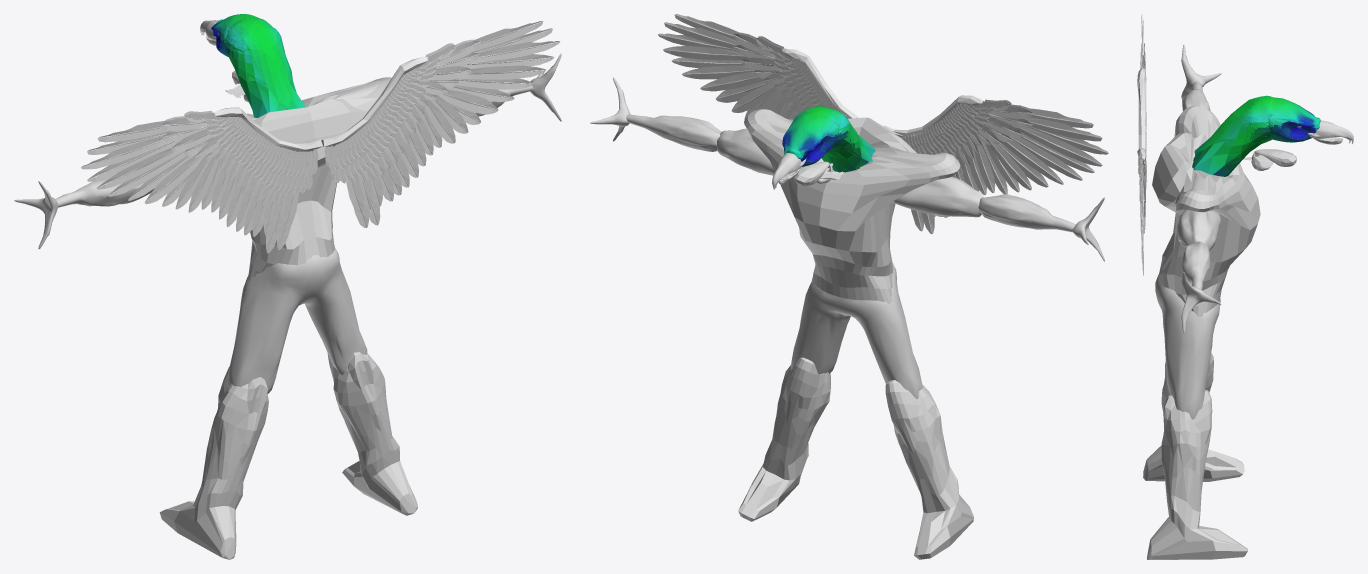
Rendered from general_potat.fbx.
The picture shows the model from 3 angles, left to right: view 1: azimuth 30°, elevation 25°; view 2: azimuth 150°, elevation 25°; view 3: azimuth 270°, elevation 25°; orthographic projection. The views are drawn at different scales.
Visible parts, largest first — view 1: Cylinder.000, Cylinder.003, Cube.004, Sphere.004, Sphere.011, Sphere.012, Sphere.005, Sphere.008, Cube.002, Sphere.010; view 2: Sphere.004, Cylinder.003, Cylinder.000, Sphere.011, Cube.004, Sphere.012, Sphere.005, Cube.003, Cube.002, Cube.001, Sphere.008, Cube; view 3: Sphere.004, Sphere.012, Cube.004, Sphere.005, Sphere.008, Sphere.011, Cube, Cube.001, Cylinder.003, Cylinder.000, Sphere.009, Sphere.010 (+3 smaller).
Boxes of the visible parts, box(x1,y1,x2,y2) form: Cylinder.000: box(321, 21, 560, 227); Cylinder.003: box(81, 107, 322, 253); Cube.004: box(227, 248, 367, 393); Sphere.004: box(247, 77, 391, 280); Sphere.011: box(159, 366, 268, 559); Sphere.012: box(327, 352, 417, 515); Sphere.005: box(211, 14, 303, 117); Sphere.008: box(211, 14, 305, 117); Cube.002: box(55, 176, 154, 207); Sphere.010: box(14, 181, 58, 248); Sphere.004: box(744, 109, 960, 303); Cylinder.003: box(883, 95, 1108, 234); Cylinder.000: box(657, 14, 858, 119); Sphere.011: box(885, 380, 973, 559); Cube.004: box(791, 263, 922, 399); Sphere.012: box(738, 357, 830, 521); Sphere.005: box(782, 106, 874, 172); Cube.003: box(892, 176, 983, 217); Cube.002: box(978, 194, 1075, 232); Cube.001: box(626, 114, 721, 151); Sphere.008: box(782, 106, 875, 172); Cube: box(716, 128, 774, 175); Sphere.004: box(1152, 106, 1260, 317); Sphere.012: box(1147, 390, 1247, 559); Cube.004: box(1155, 273, 1220, 419); Sphere.005: box(1192, 96, 1320, 176); Sphere.008: box(1193, 95, 1319, 176); Sphere.011: box(1143, 352, 1244, 481); Cube: box(1177, 209, 1220, 250); Cube.001: box(1182, 241, 1210, 289); Cylinder.003: box(1137, 14, 1146, 233); Cylinder.000: box(1137, 148, 1146, 275); Sphere.009: box(1181, 272, 1221, 333); Sphere.010: box(1181, 44, 1221, 100).
Bounding box in the file's own units: 11363 × 9652 × 4500.
